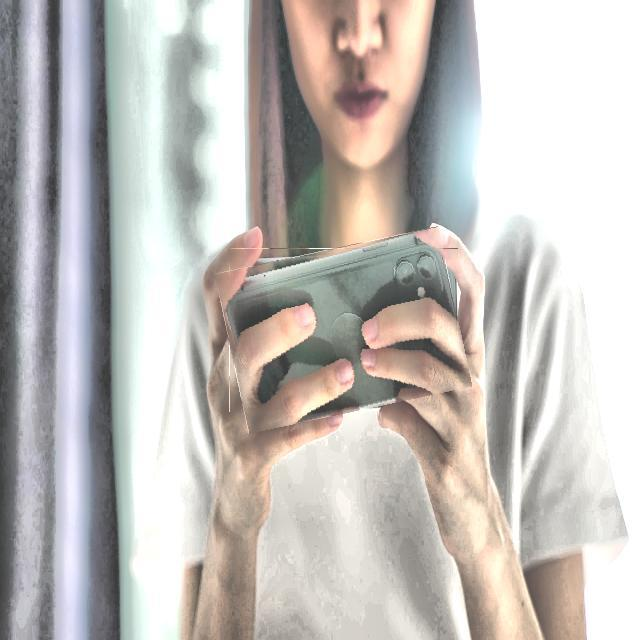Phone: (222, 237, 465, 423)
